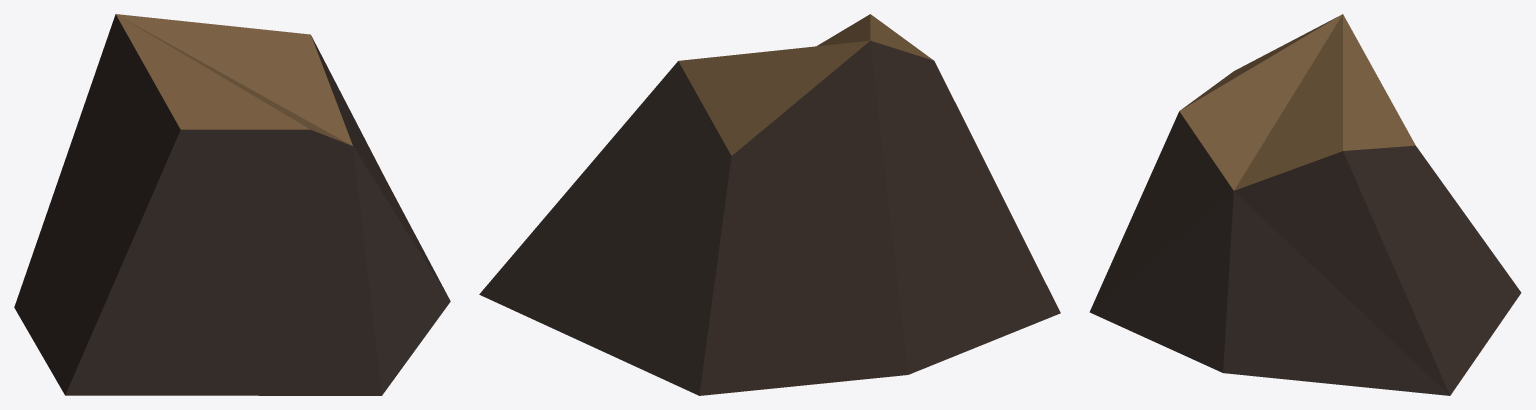
The model's file is tree_03.fbx.
3 renders of one model, left to right at view 1: azimuth 30°, elevation 25°; view 2: azimuth 150°, elevation 25°; view 3: azimuth 270°, elevation 25°, orthographic. The views are drawn at different scales.
Parts seen in each view (by area): view 1: tree_03; view 2: tree_03; view 3: tree_03.
Boxes of the visible parts, x1,y1,x2,y2 form: tree_03: (14, 14, 450, 395); tree_03: (479, 14, 1060, 395); tree_03: (1089, 14, 1521, 395).
Size of the model in its own units: 3.41 by 2.14 by 3.34.
